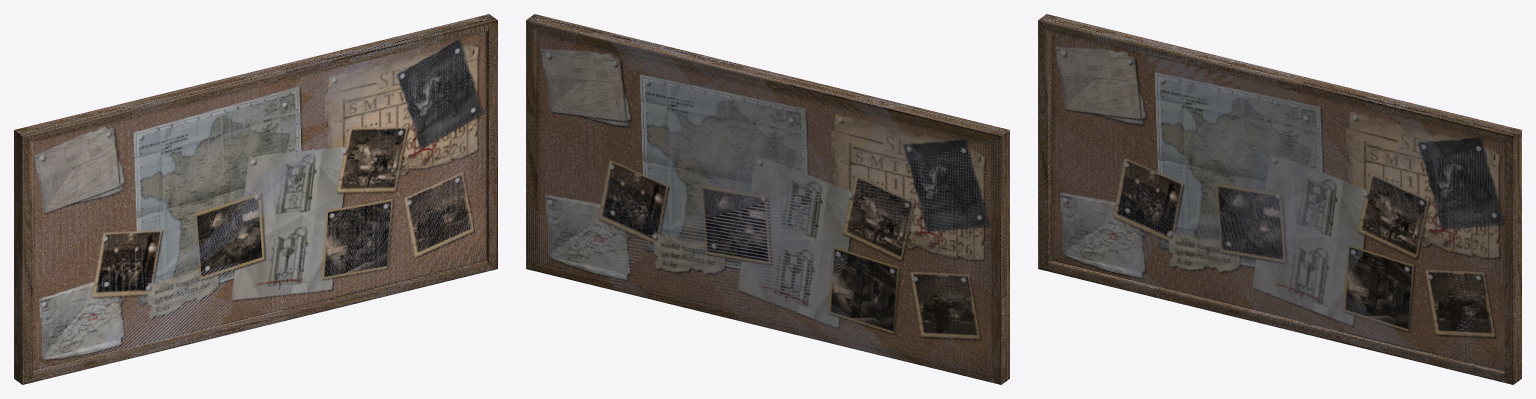
3 renders of one model, left to right at view 1: azimuth 30°, elevation 25°; view 2: azimuth 150°, elevation 25°; view 3: azimuth 330°, elevation 25°, orthographic.
Visible parts, largest first — view 1: SketchUp (×2); view 2: SketchUp; view 3: SketchUp (×2).
Part boxes in pixels (box(x1,y1,x2,y2)): SketchUp (×2): box(14, 14, 497, 384); SketchUp: box(526, 14, 1009, 384); SketchUp (×2): box(1038, 14, 1521, 384).
Bounding box in the file's own units: 48 × 1.5 × 24.
